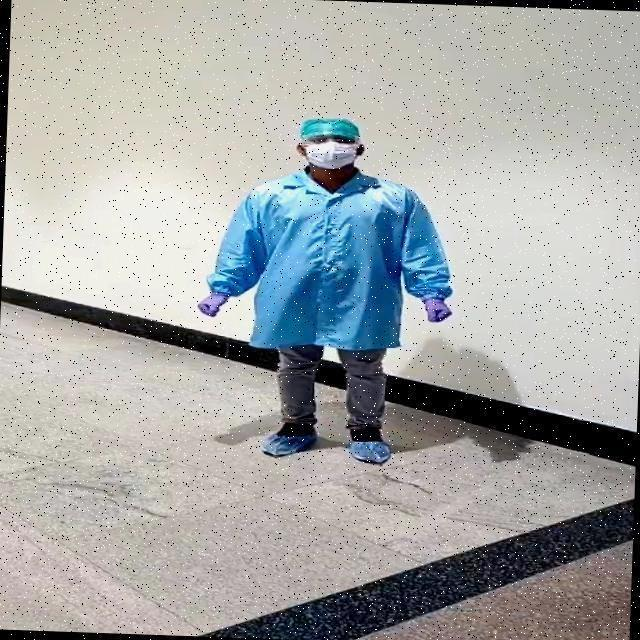gloves: (300, 112, 352, 138)
mask: (304, 146, 362, 175)
